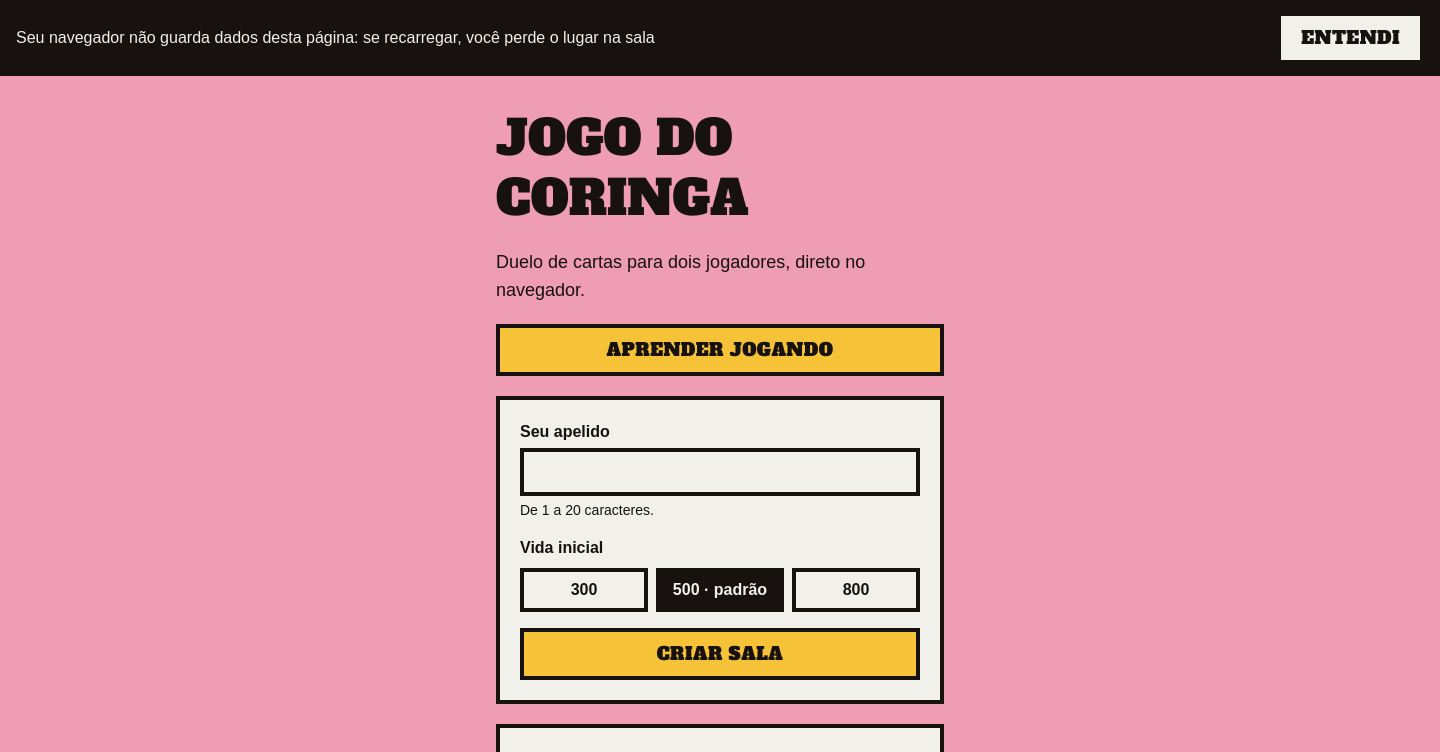
Test: <App />: sem armazenamento do navegador › o aviso pode ser dispensado
Click the button "Entendi". click: (1351, 38)
box: [1277, 12, 1424, 64]
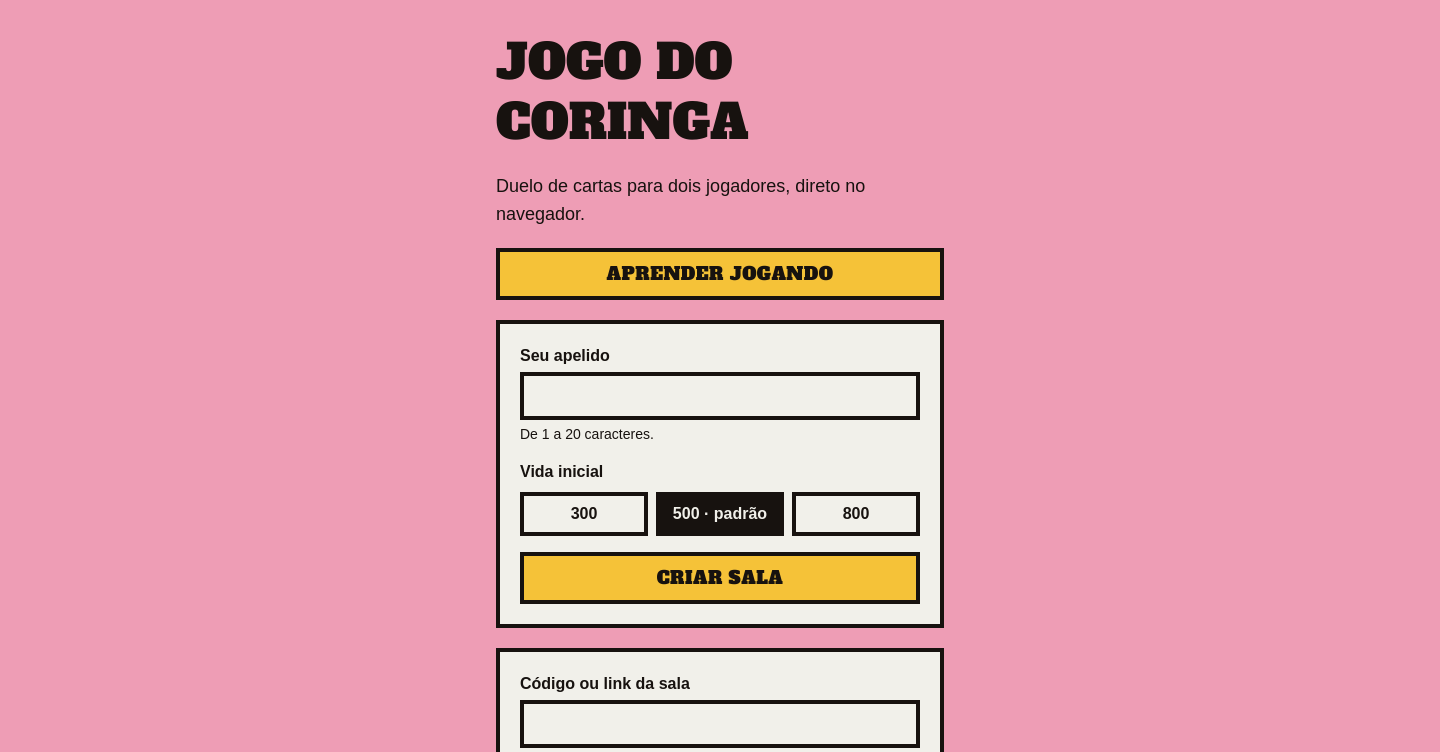
Check: the text "Seu navegador não guarda dados desta página: se recarregar, você perde o lugar na sala" is gone
